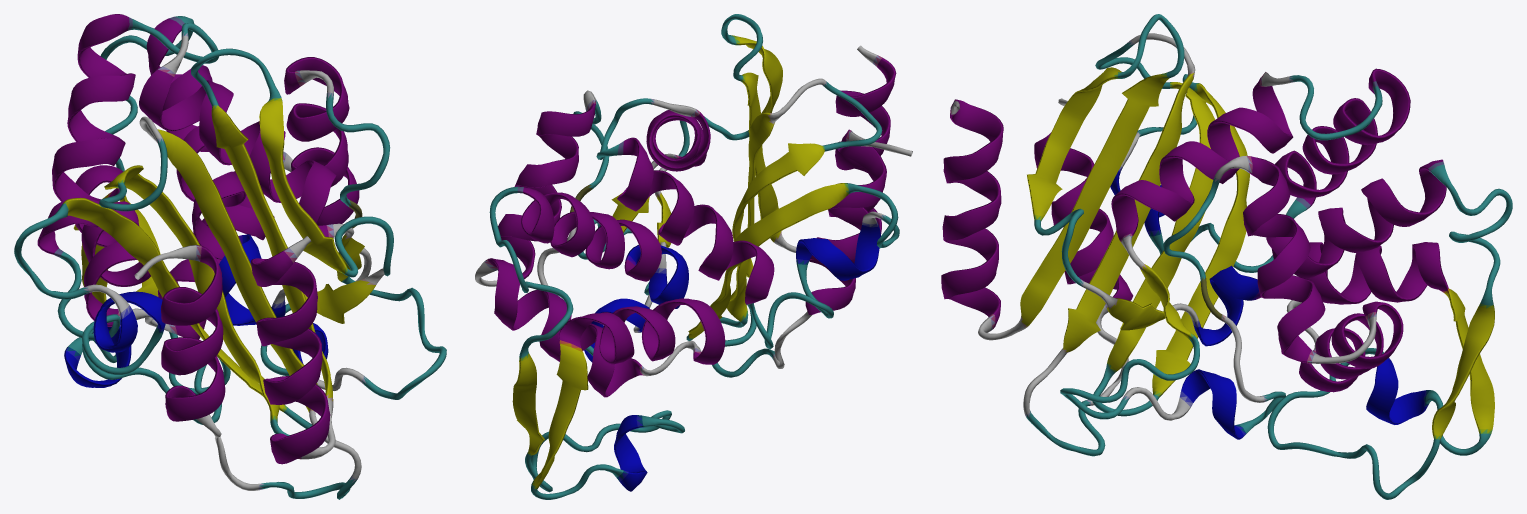
File: animate.0047.obj
The picture shows the model from 3 angles, left to right: view 1: azimuth 30°, elevation 25°; view 2: azimuth 150°, elevation 25°; view 3: azimuth 270°, elevation 25°; orthographic projection. The views are drawn at different scales.
Parts seen in each view (by area): view 1: vmd_mol0_rep0; view 2: vmd_mol0_rep0; view 3: vmd_mol0_rep0.
Part boxes in pixels (x1,y1,x2,y2): vmd_mol0_rep0: [14, 14, 446, 499]; vmd_mol0_rep0: [475, 14, 912, 499]; vmd_mol0_rep0: [941, 14, 1512, 499].
Size of the model in its own units: 0.9973 by 1.11 by 1.33.
